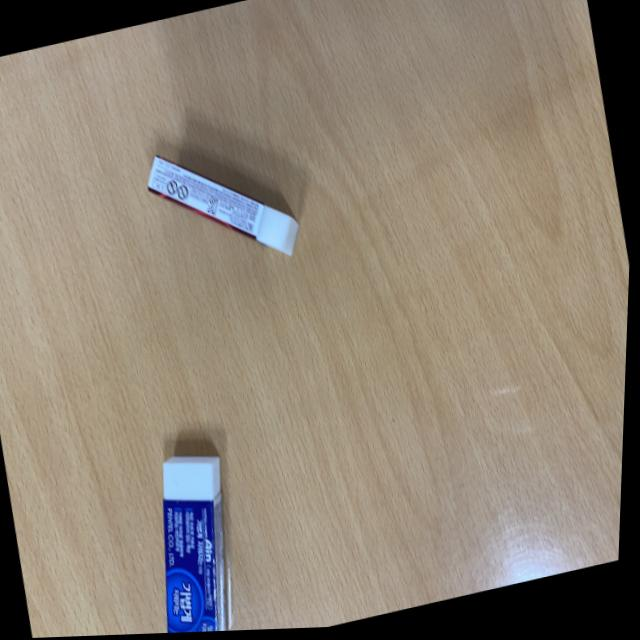blue: (126, 437, 266, 636)
red: (134, 122, 316, 292)
